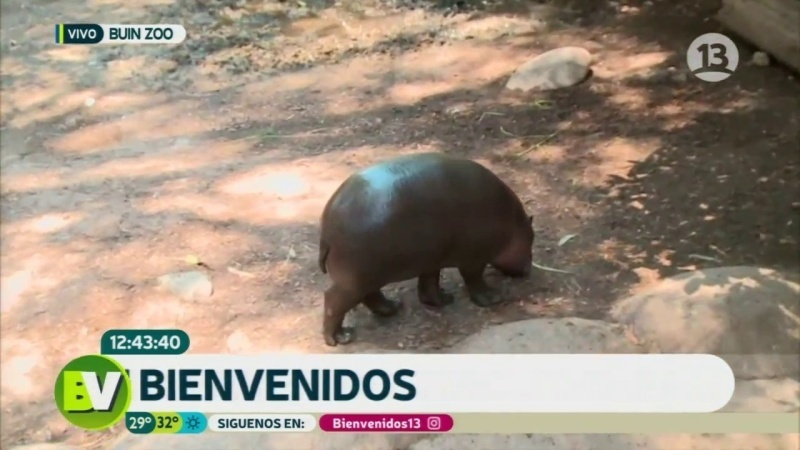hipopotamo: (291, 146, 571, 350)
